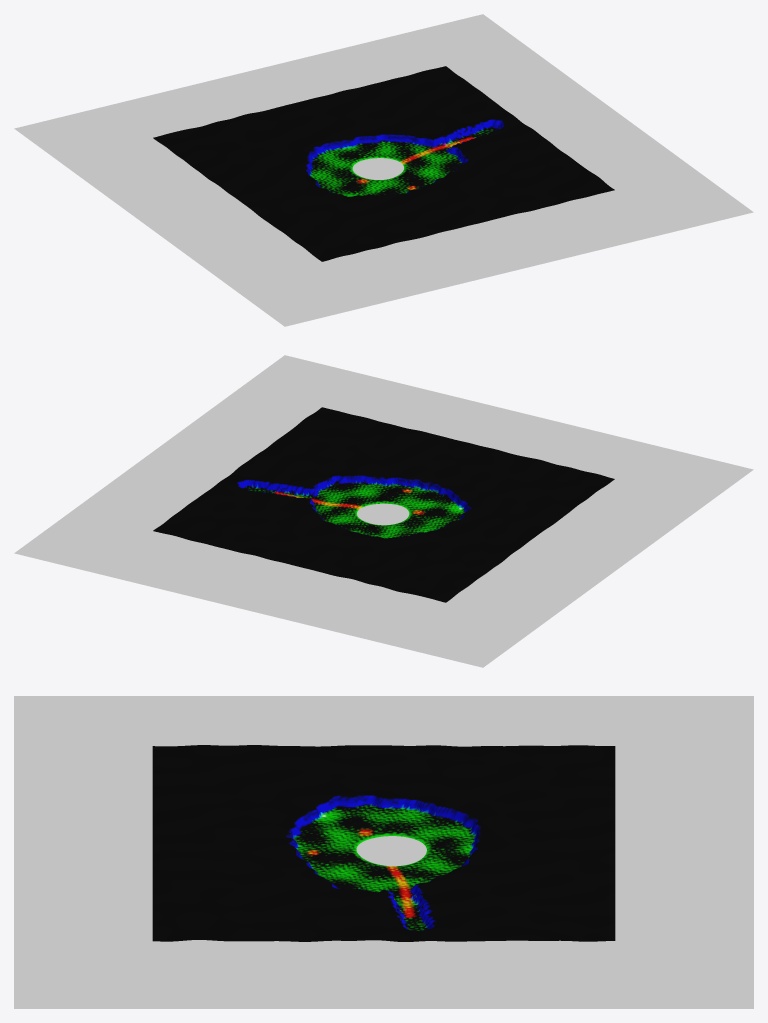
File: terrain.glb
3 renders of one model, top to bottom at view 1: azimuth 30°, elevation 25°; view 2: azimuth 150°, elevation 25°; view 3: azimuth 270°, elevation 25°, orthographic. The views are drawn at different scales.
Visible parts, largest first — view 1: water, terrain; view 2: water, terrain; view 3: water, terrain.
Boxes of the visible parts, x1,y1,x2,y2 form: water: (14,14,753,326); terrain: (153,66,614,261); water: (14,355,753,667); terrain: (153,407,614,602); water: (14,696,753,1008); terrain: (152,745,615,941).
Size of the model in its own units: 256 by 6.67 by 256.
